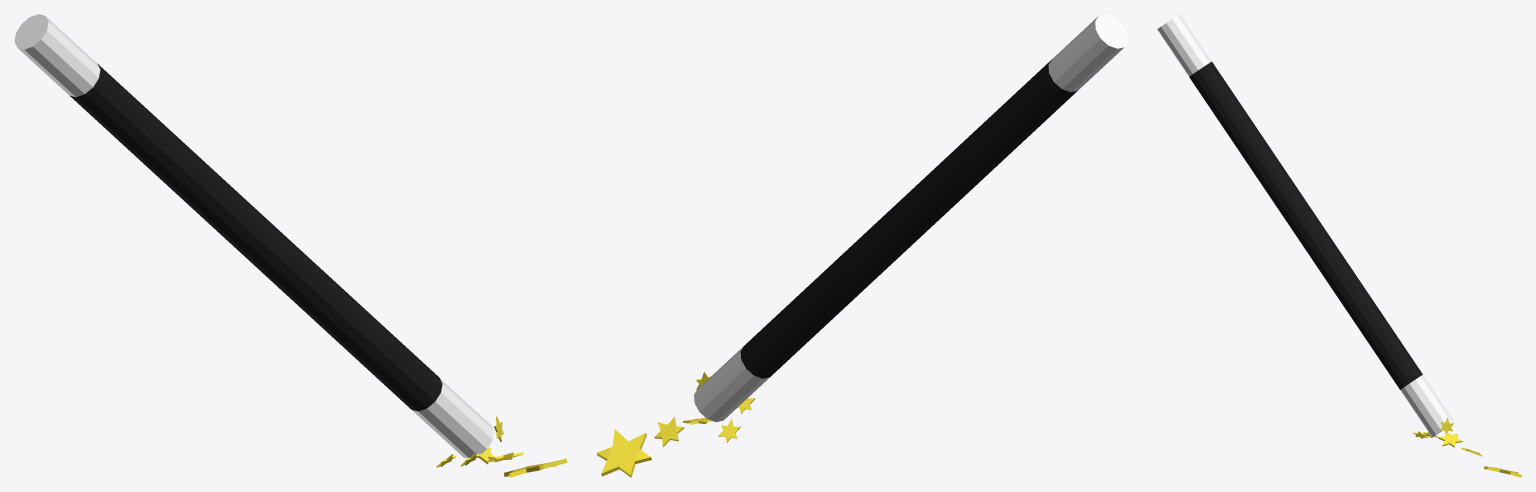
Rendered from magic-wand.glb.
3 views of the same model, side by side, from view 1: azimuth 30°, elevation 25°; view 2: azimuth 150°, elevation 25°; view 3: azimuth 330°, elevation 25° (orthographic). The views are drawn at different scales.
Parts seen in each view (by area): view 1: Node; view 2: Node; view 3: Node.
Part boxes in pixels (left/top/right/bottom): Node: left=14, top=14, right=567, bottom=477; Node: left=596, top=14, right=1128, bottom=477; Node: left=1157, top=14, right=1521, bottom=477.
Size of the model in its own units: 1.44 by 1.49 by 0.2334.
